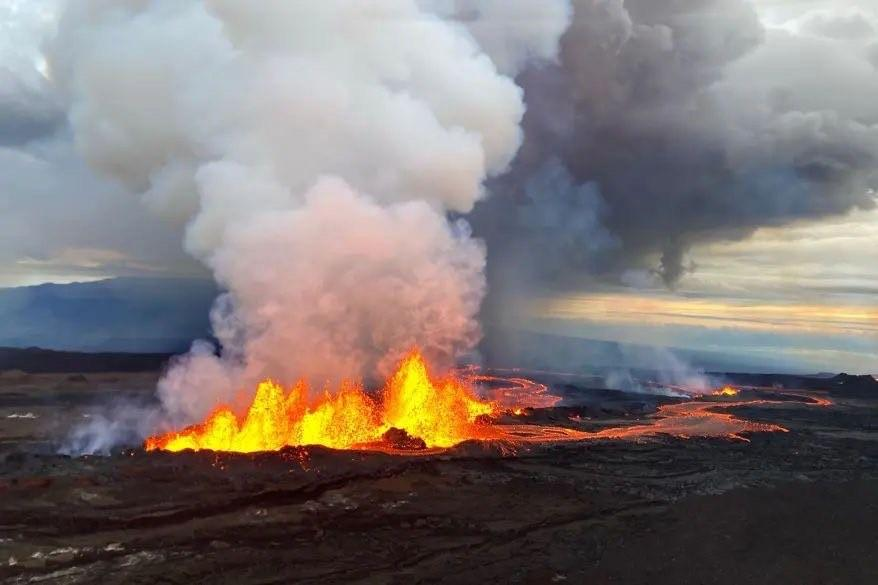fire: (144, 361, 544, 462), (522, 401, 785, 443), (801, 387, 851, 410), (705, 382, 738, 398)
smoke: (0, 0, 496, 365), (632, 373, 688, 401), (667, 362, 712, 389)
